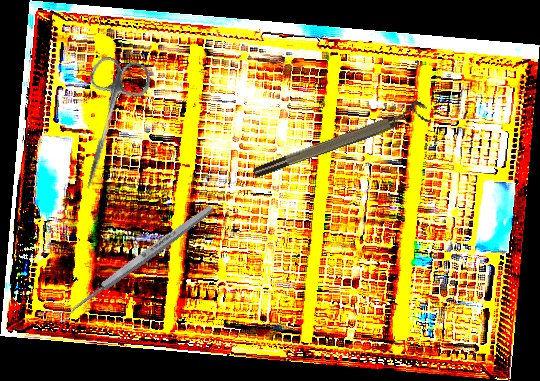Fixation Ring: (248, 98, 432, 181)
Iris Scissors: (61, 52, 155, 198)
Surgical Spoon: (55, 203, 215, 324)
